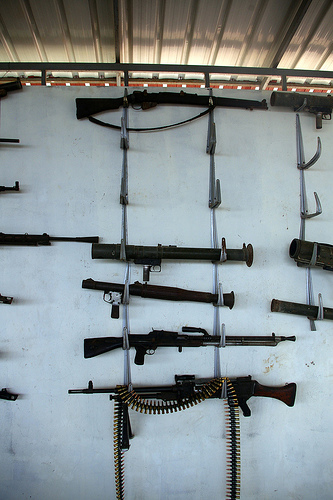rifle: (63, 376, 299, 423), (61, 324, 297, 371), (71, 93, 267, 129)
